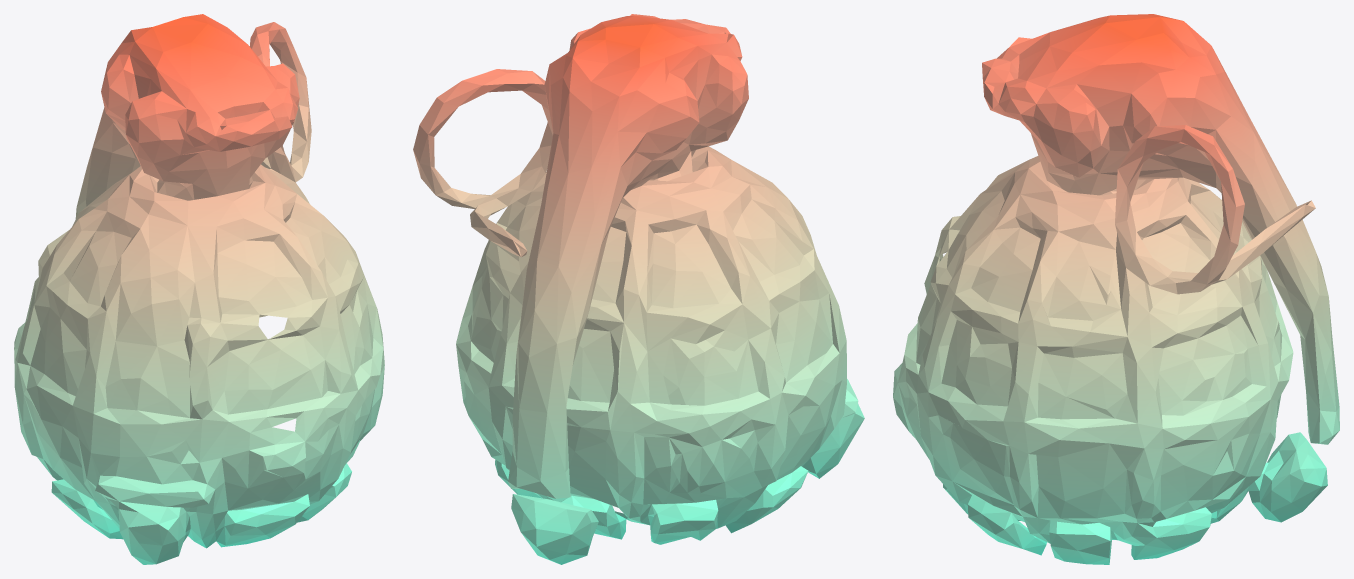
The model's file is 114_cyb_laser_gradient_fish_scales_2820_2026_10_03_f758da.glb.
The picture shows the model from 3 angles, left to right: view 1: azimuth 30°, elevation 25°; view 2: azimuth 150°, elevation 25°; view 3: azimuth 270°, elevation 25°; orthographic projection. The views are drawn at different scales.
Visible parts, largest first — view 1: geometry_0; view 2: geometry_0; view 3: geometry_0.
Part boxes in pixels (<box>): geometry_0: <box>14,14,384,564</box>; geometry_0: <box>413,14,864,564</box>; geometry_0: <box>893,14,1339,564</box>.
Size of the model in its own units: 0.7158 by 0.971 by 0.792.
